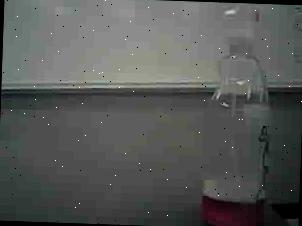hazard: (195, 1, 283, 226)
